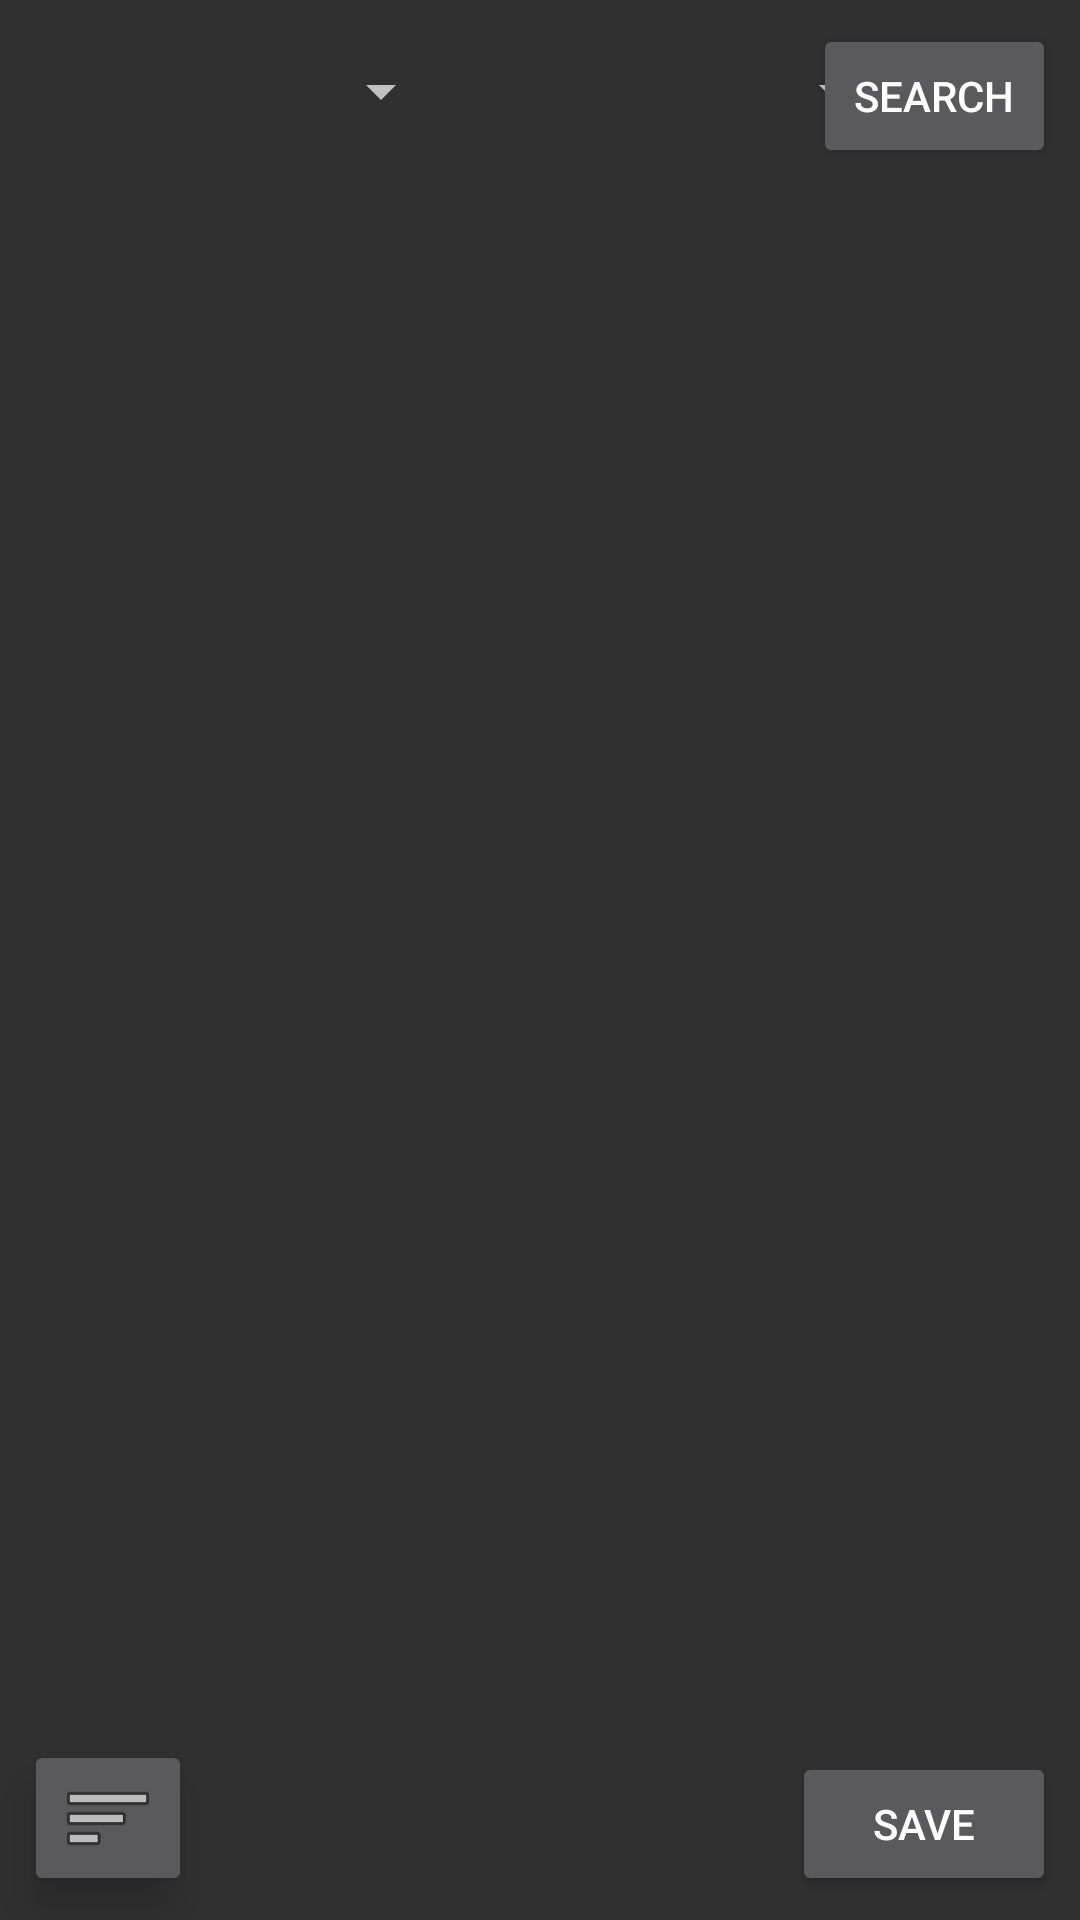

Named icons in this screenshot (1080w x 1920h) and their centers, (x=x, y=y):
sort by size: (x=108, y=1818)
